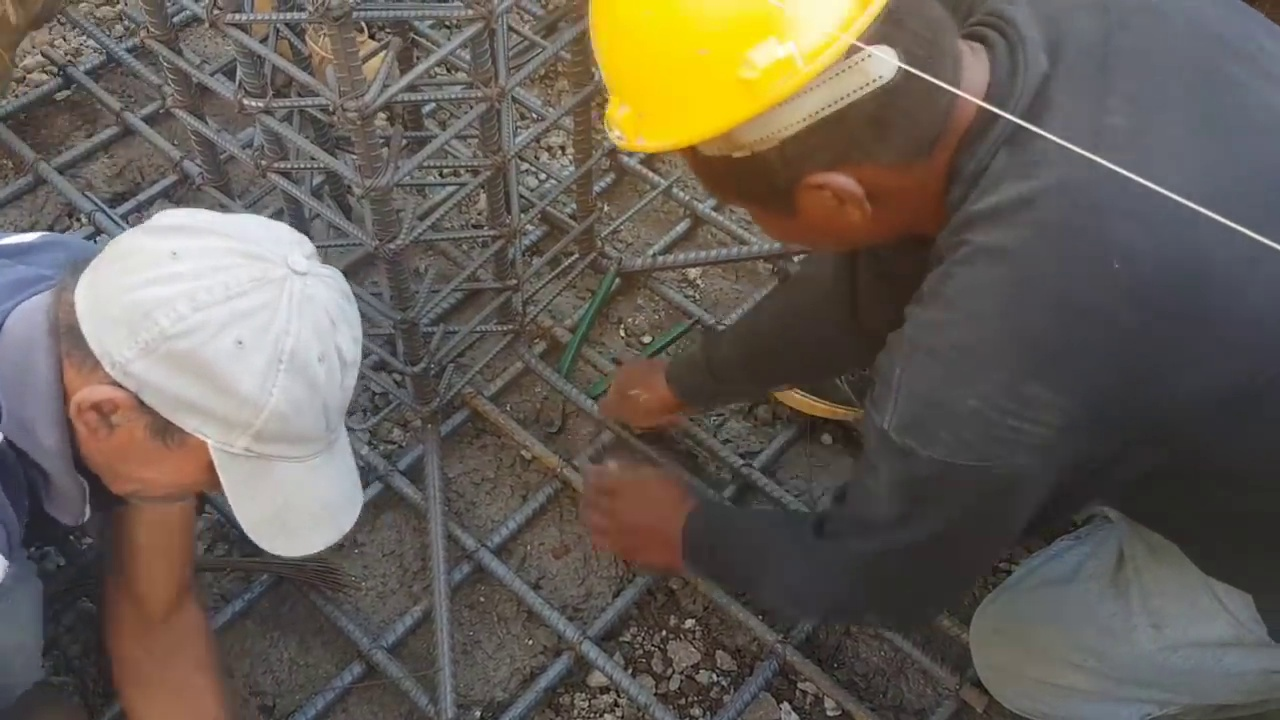helmet: (585, 2, 886, 176)
helmet-off: (38, 205, 369, 530)
helmet-on: (580, 8, 1014, 229)
person: (589, 3, 1280, 719), (0, 187, 372, 719)
